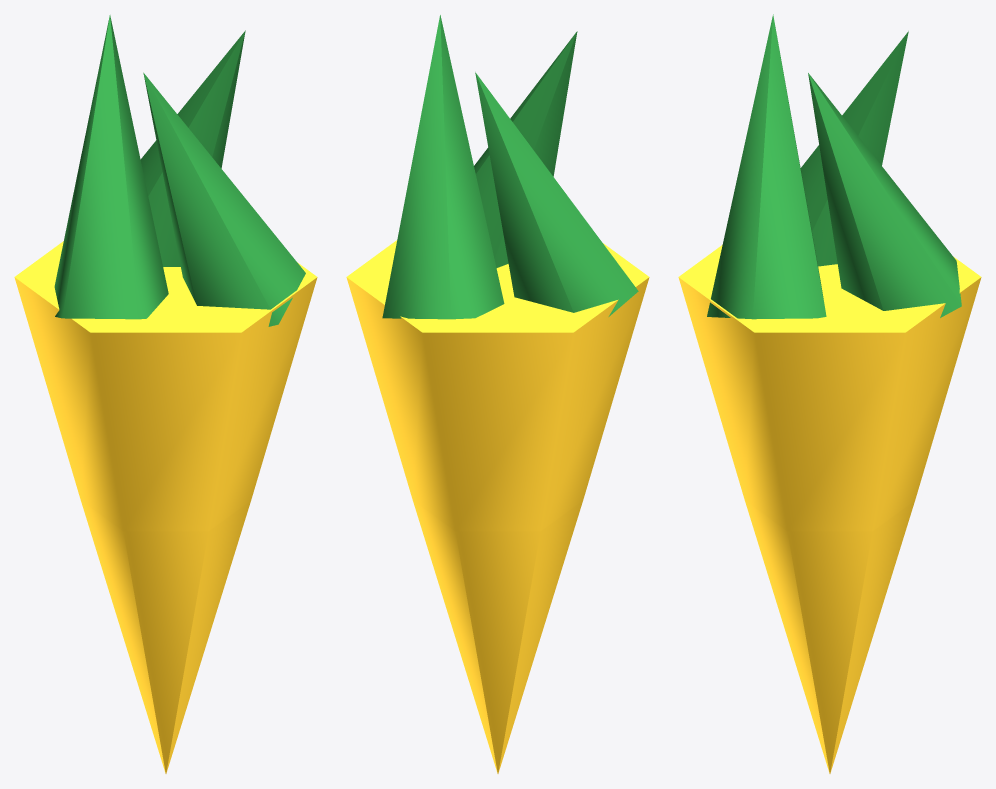
The model's file is carrot-gold.glb.
3 views of the same model, side by side, from view 1: azimuth 30°, elevation 25°; view 2: azimuth 150°, elevation 25°; view 3: azimuth 270°, elevation 25° (orthographic).
Visible parts, largest first — view 1: carrot_gold; view 2: carrot_gold; view 3: carrot_gold.
Boxes of the visible parts, x1,y1,x2,y2 form: carrot_gold: (14,15,317,773); carrot_gold: (346,15,649,773); carrot_gold: (678,14,981,773).
Size of the model in its own units: 0.2876 by 0.8575 by 0.32.
